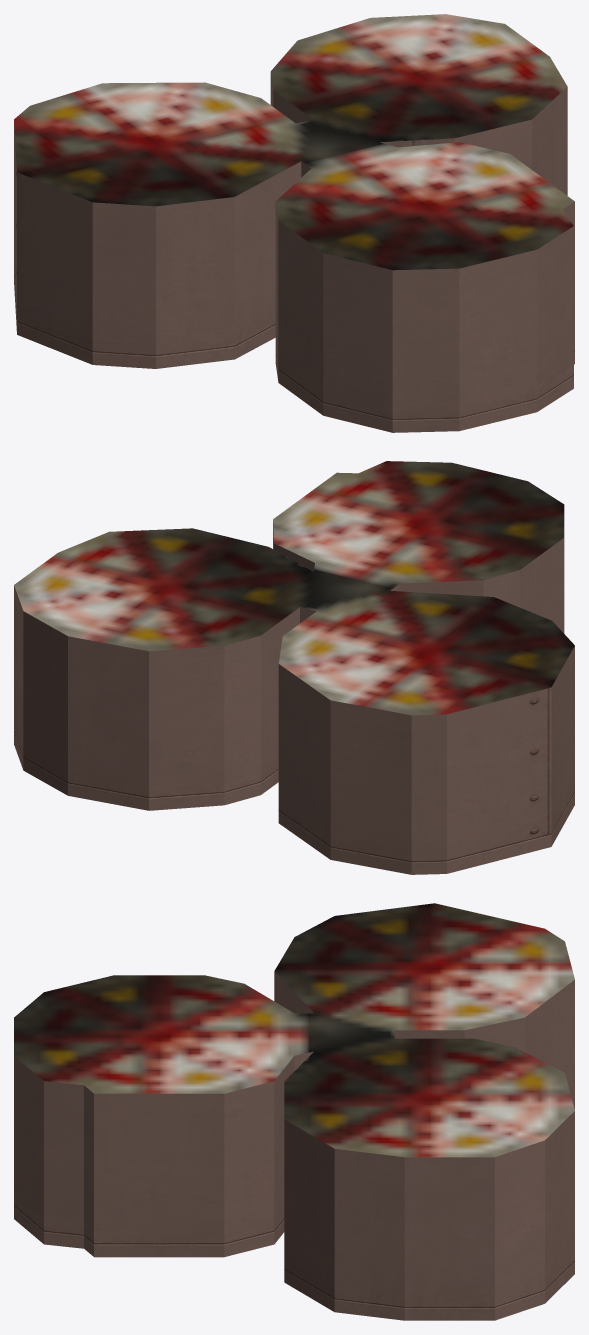
File: fuel_tank_heavy_00.glb
3 views of the same model, one above another, from view 1: azimuth 30°, elevation 25°; view 2: azimuth 150°, elevation 25°; view 3: azimuth 270°, elevation 25° (orthographic). The views are drawn at different scales.
Parts seen in each view (by area): view 1: buildings/saxarba/fuel_tanks/fuel_tank_heavy_00; view 2: buildings/saxarba/fuel_tanks/fuel_tank_heavy_00; view 3: buildings/saxarba/fuel_tanks/fuel_tank_heavy_00.
Boxes of the visible parts, x1,y1,x2,y2 form: buildings/saxarba/fuel_tanks/fuel_tank_heavy_00: [14, 14, 574, 432]; buildings/saxarba/fuel_tanks/fuel_tank_heavy_00: [14, 461, 574, 874]; buildings/saxarba/fuel_tanks/fuel_tank_heavy_00: [14, 903, 574, 1320].
Size of the model in its own units: 60 by 18 by 56.
